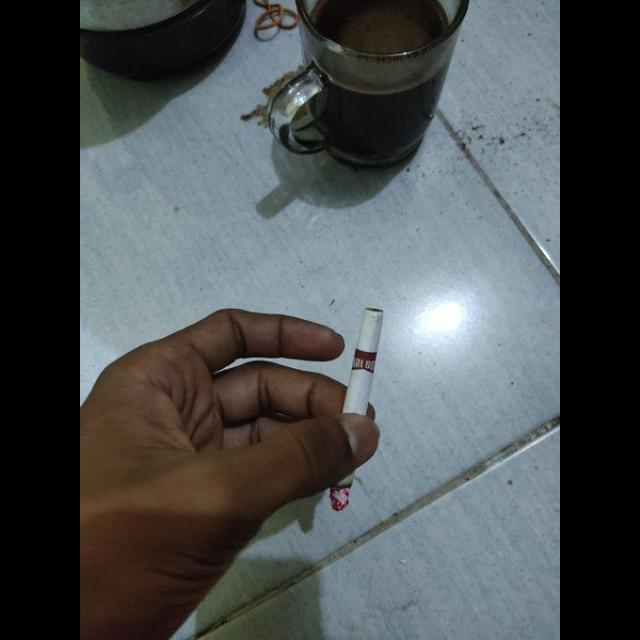rokok: (327, 302, 389, 512)
